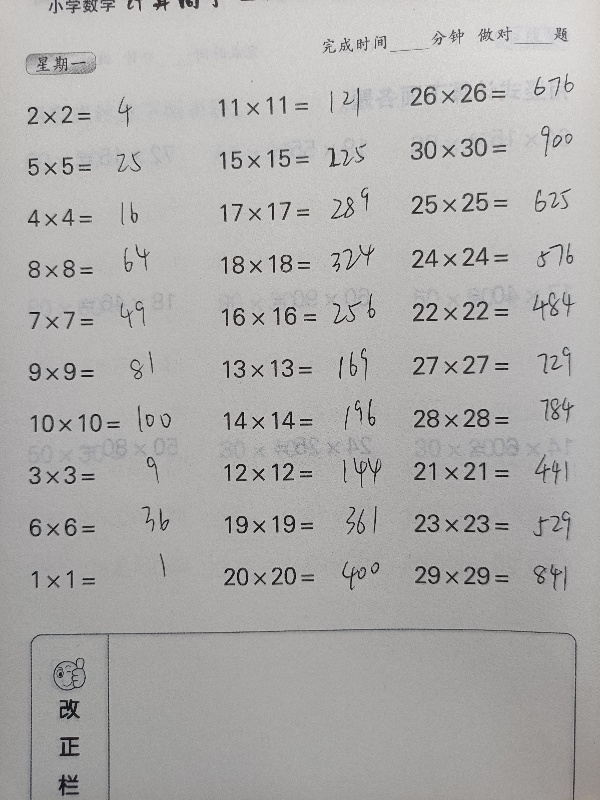equation: (204, 184, 391, 228), (25, 548, 190, 595), (14, 241, 196, 281), (217, 293, 393, 333), (21, 504, 201, 541), (25, 295, 179, 336), (403, 293, 583, 328), (403, 239, 583, 274), (402, 185, 582, 220), (210, 141, 390, 176), (401, 130, 581, 165), (401, 76, 581, 111), (215, 559, 395, 593), (406, 558, 586, 592), (216, 507, 396, 541), (405, 506, 585, 540), (21, 458, 201, 492), (216, 455, 396, 489), (405, 454, 585, 488), (22, 406, 202, 440), (214, 403, 394, 437), (404, 401, 584, 435), (21, 355, 201, 389), (214, 351, 394, 385), (403, 348, 583, 382), (212, 247, 392, 281), (209, 89, 389, 122), (23, 148, 177, 185), (27, 199, 168, 237), (19, 95, 160, 132)
